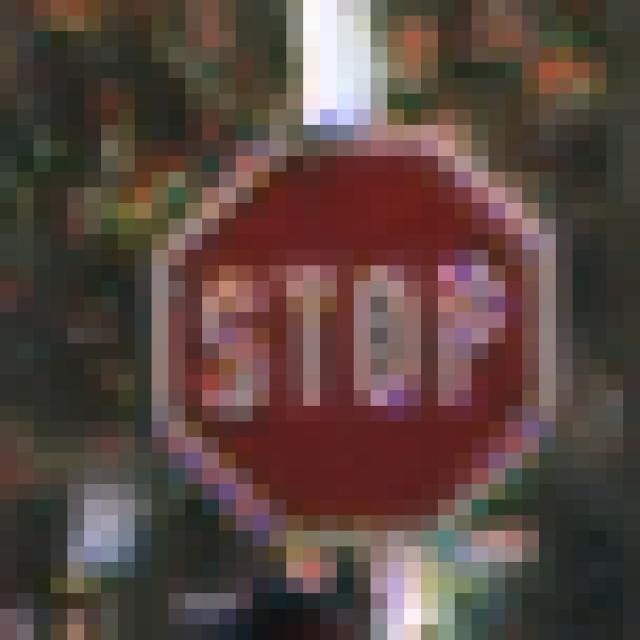STOP: (102, 79, 540, 547)
